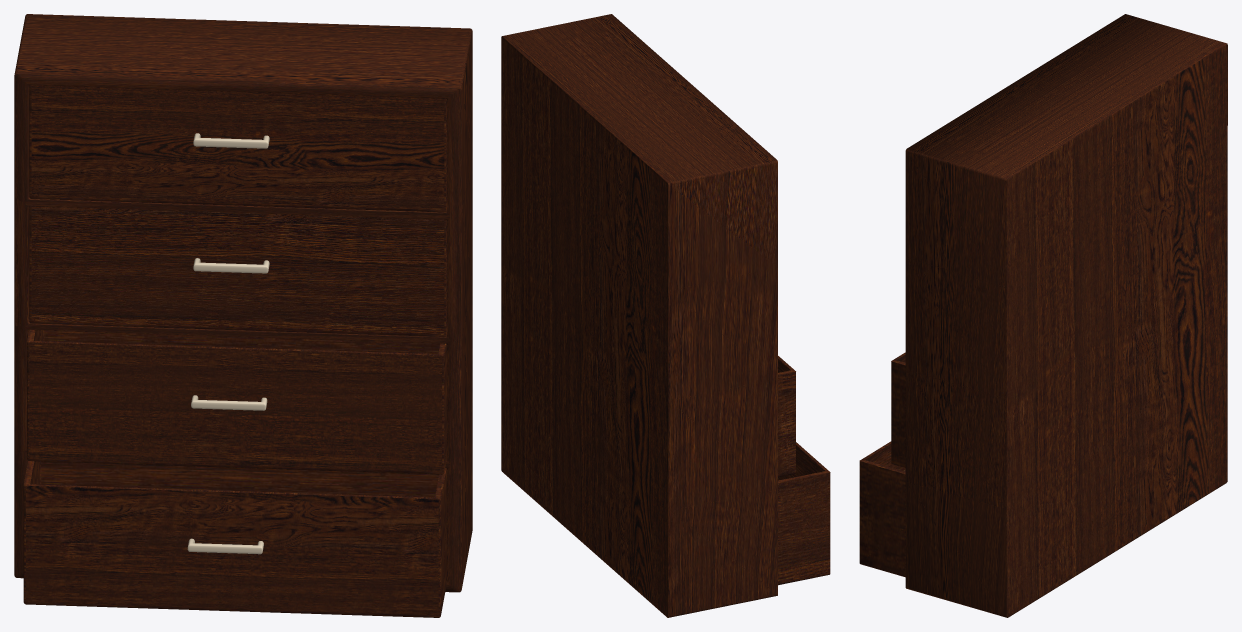
Rendered from dresser.fbx.
3 renders of one model, left to right at view 1: azimuth 30°, elevation 25°; view 2: azimuth 150°, elevation 25°; view 3: azimuth 270°, elevation 25°, orthographic. The views are drawn at different scales.
Visible parts, largest first — view 1: Drawers.004, Body, Drawers.003, Drawers.002, Drawers.001; view 2: Body, Drawers.004, Drawers.003; view 3: Body, Drawers.004, Drawers.003.
Boxes of the visible parts, x1,y1,x2,y2 form: Drawers.004: [23, 461, 447, 617]; Body: [14, 14, 472, 592]; Drawers.003: [27, 330, 447, 474]; Drawers.002: [29, 206, 447, 336]; Drawers.001: [29, 85, 447, 212]; Body: [501, 14, 777, 617]; Drawers.004: [778, 442, 830, 585]; Drawers.003: [778, 356, 795, 477]; Body: [905, 14, 1227, 617]; Drawers.004: [859, 441, 905, 577]; Drawers.003: [891, 352, 905, 468].
Size of the model in its own units: 653 by 758 by 576.
